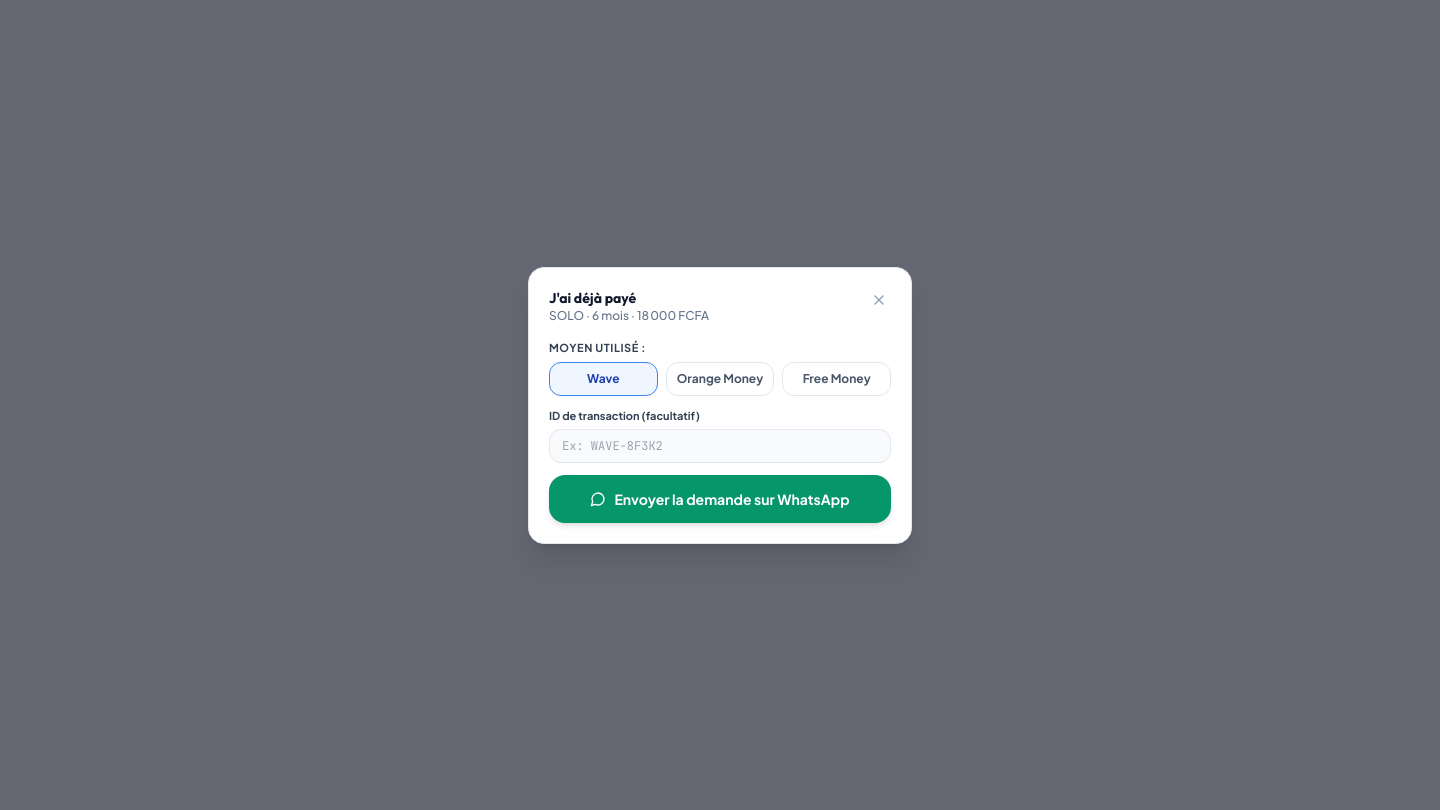
Scenario: abonnement : « J’ai déjà payé » › envoie la demande avec un clientMutationId stable et ouvre le lien WhatsApp de l’API
Click the button "Free Money". click: coordinates (837, 379)
box: 782,362 -> 891,396
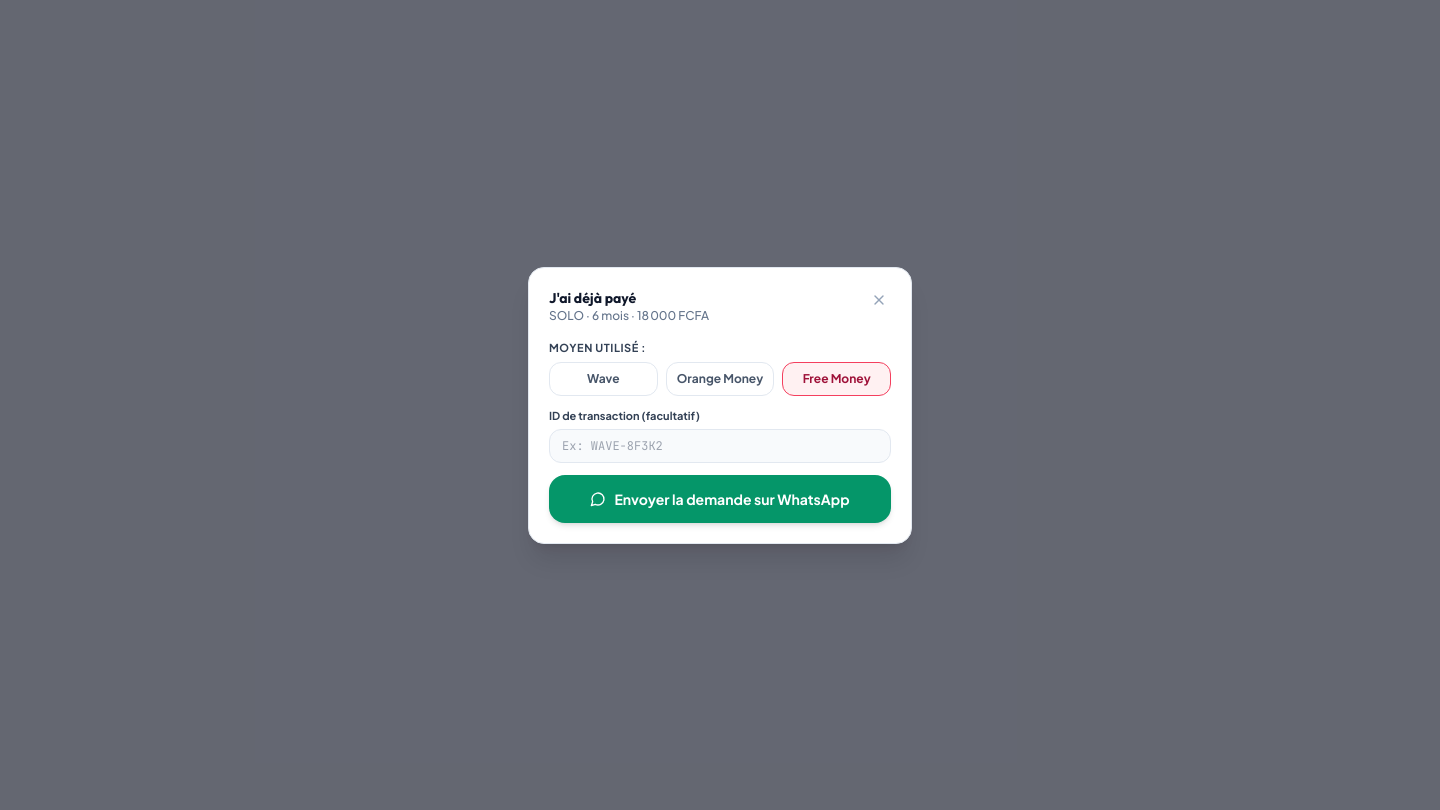
Type " TX-42 " into the field labelled "ID de transaction (facultatif)". click: coordinates (720, 446)
box: 549,428 -> 891,462
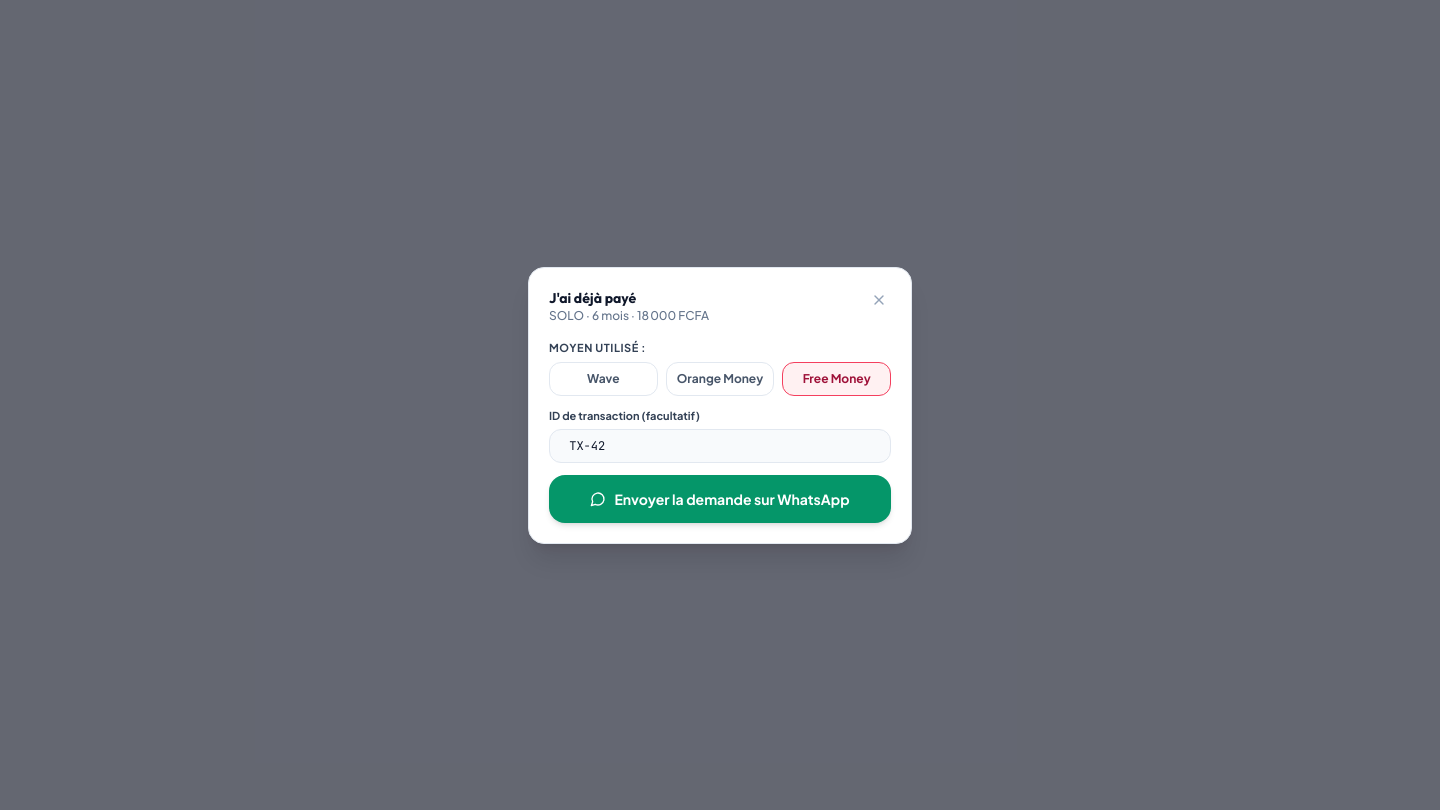
Click the button "Envoyer la demande sur WhatsApp". click: coordinates (720, 498)
box: 549,474 -> 891,522
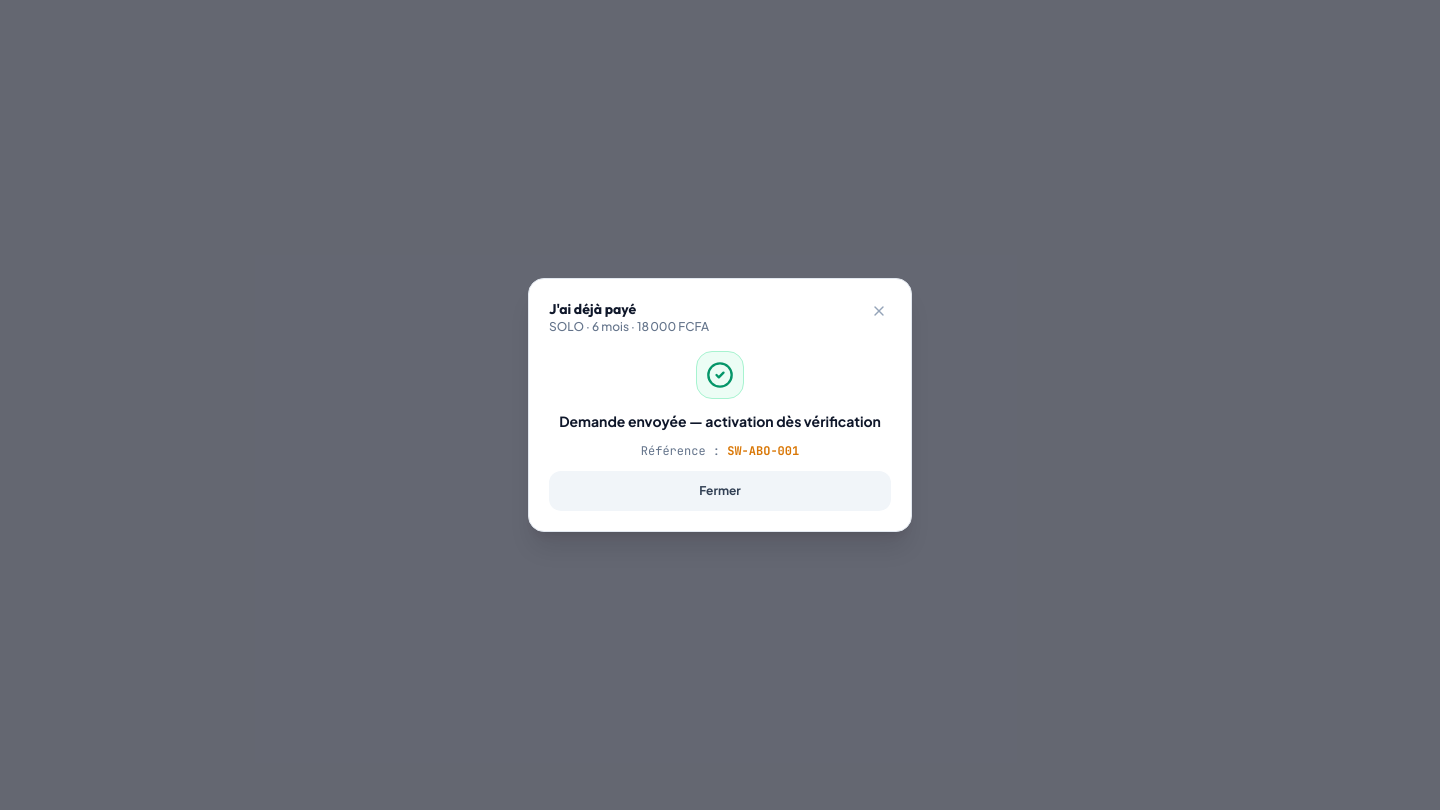
Now the text "Demande envoyée — activation dès vérification" is shown, box 549,411 -> 891,431
Now the text "SW-ABO-001" is shown, box 727,443 -> 799,459
